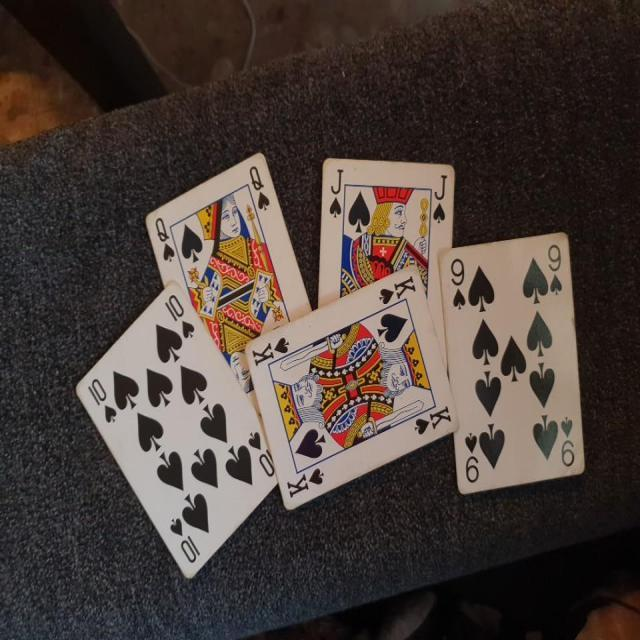10 of spades: (68, 281, 288, 588)
9 of spades: (435, 213, 590, 498)
jack of spades: (316, 148, 454, 420)
king of spades: (234, 264, 466, 510)
queen of spades: (140, 146, 313, 418)
